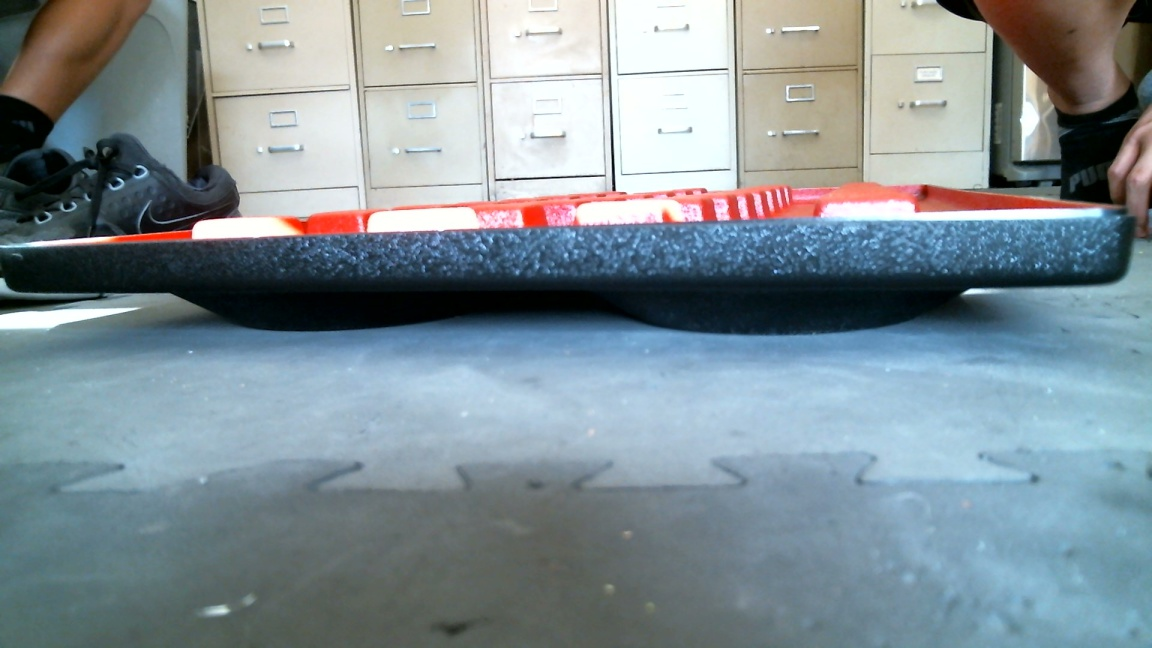red_foundation: (1, 181, 1134, 395)
